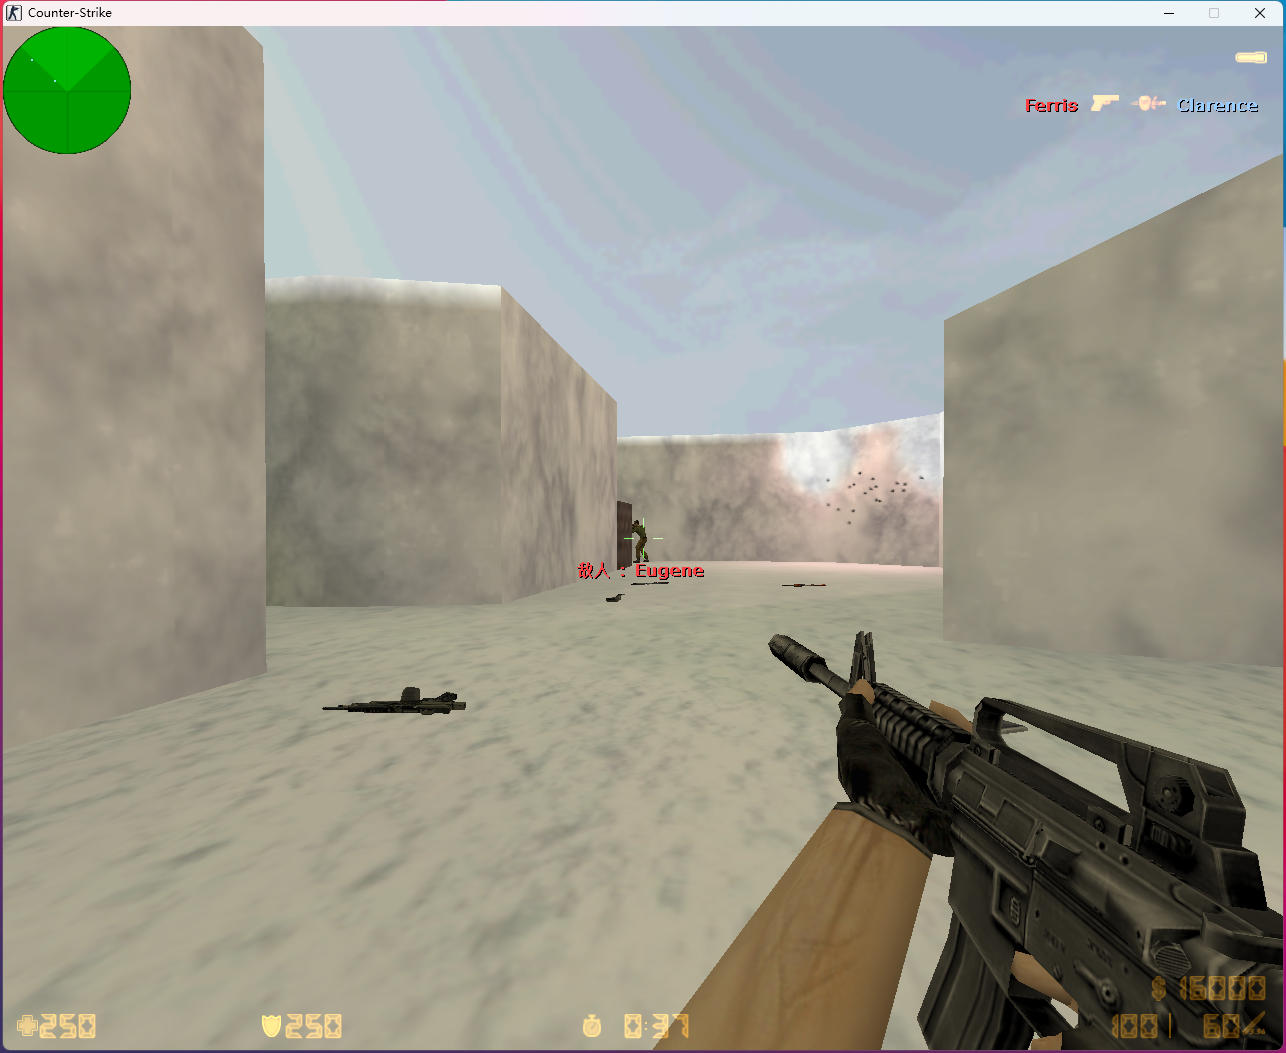T: (630, 518, 650, 567)
weapon: (311, 688, 472, 718), (778, 581, 833, 593), (628, 576, 668, 590), (601, 590, 625, 606)
